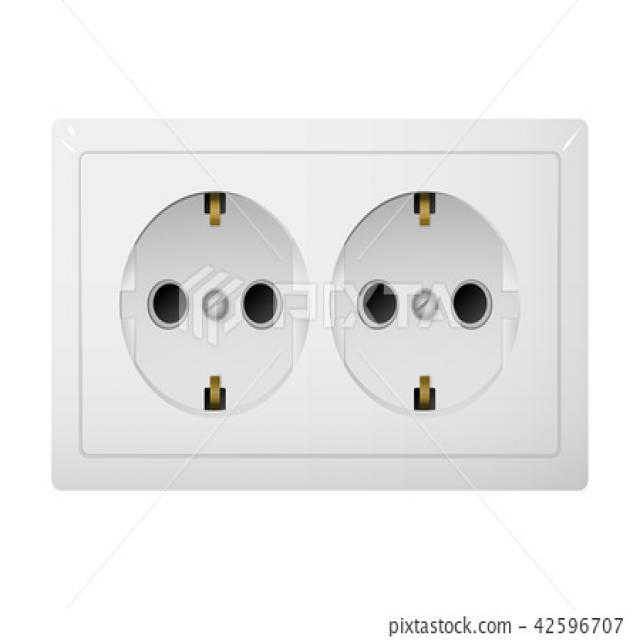typeb: (28, 100, 616, 518)
